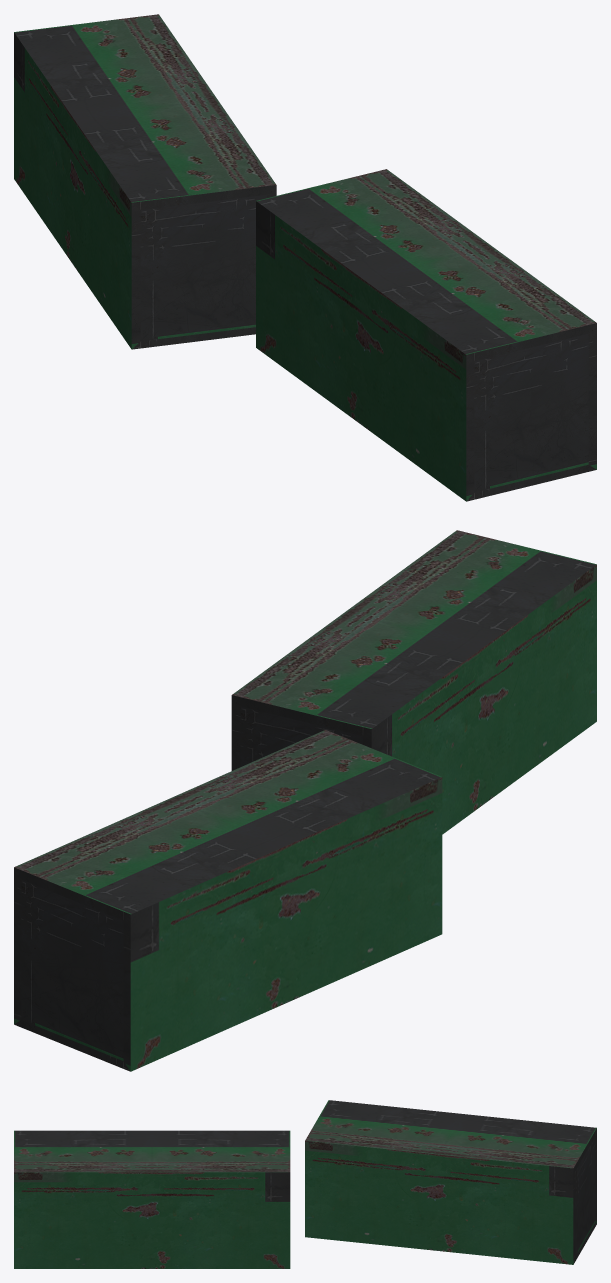
The model's file is Container7_Closed1.fbx.
3 views of the same model, one above another, from view 1: azimuth 30°, elevation 25°; view 2: azimuth 150°, elevation 25°; view 3: azimuth 270°, elevation 25° (orthographic). The views are drawn at different scales.
Parts seen in each view (by area): view 1: Container7_Closed1; view 2: Container7_Closed1; view 3: Container7_Closed1.
Part boxes in pixels (box(x1,y1,x2,y2)): Container7_Closed1: box(14, 14, 596, 501); Container7_Closed1: box(14, 530, 596, 1071); Container7_Closed1: box(14, 1100, 596, 1268).
Bounding box in the file's own units: 415 × 1414 × 258.
